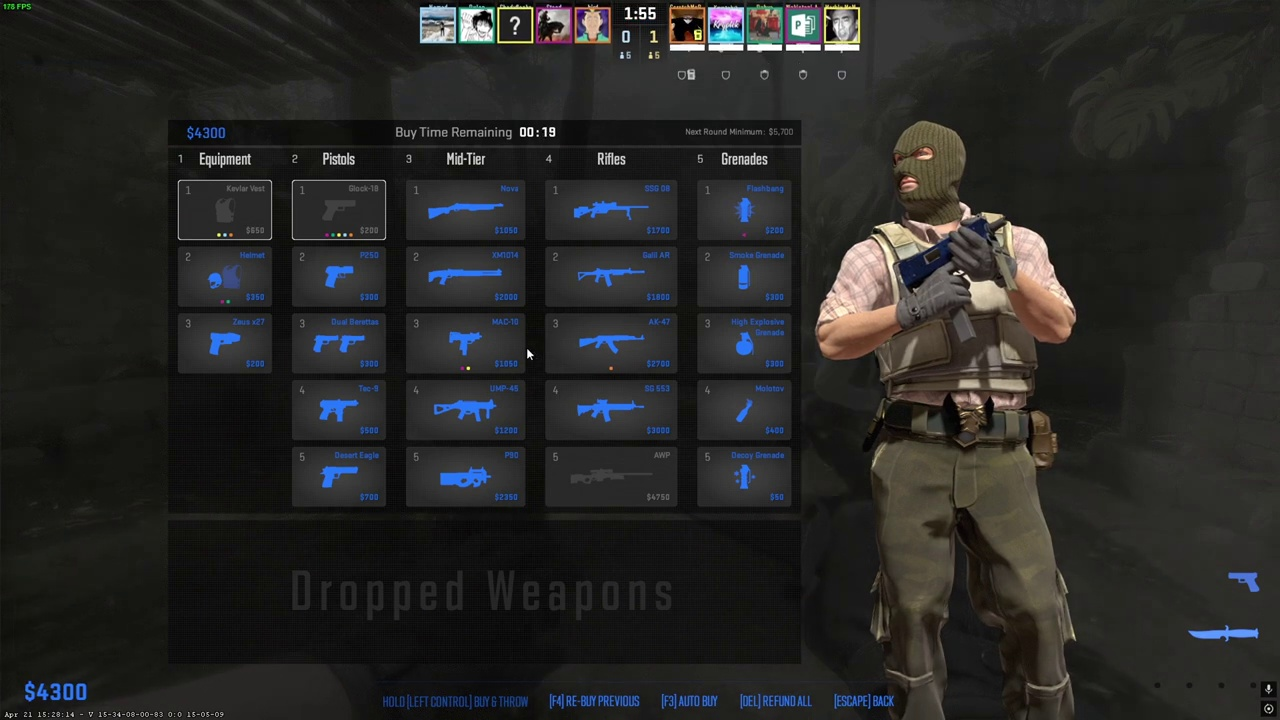Terrorist: (850, 123, 1073, 720)
